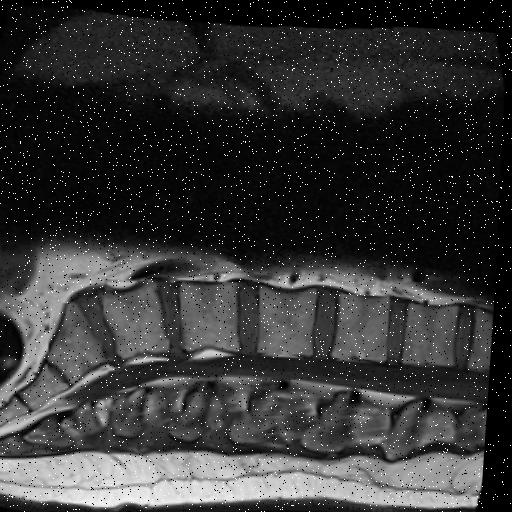L1: (406, 298, 461, 359)
L2: (337, 289, 393, 355)
L3: (261, 285, 319, 351)
L4: (183, 279, 241, 348)
L5: (106, 280, 173, 357)
S1: (52, 302, 111, 382)
